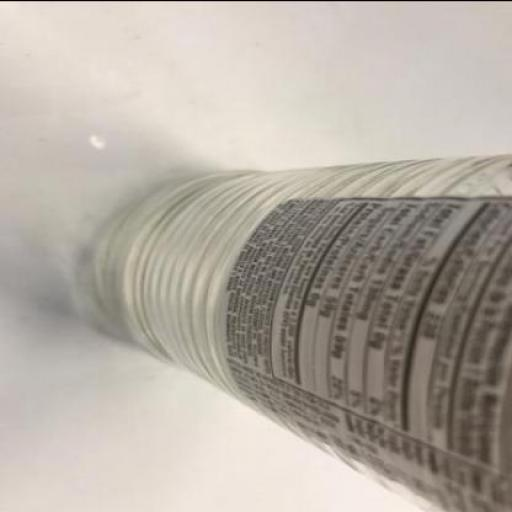glass: (95, 151, 512, 511)
